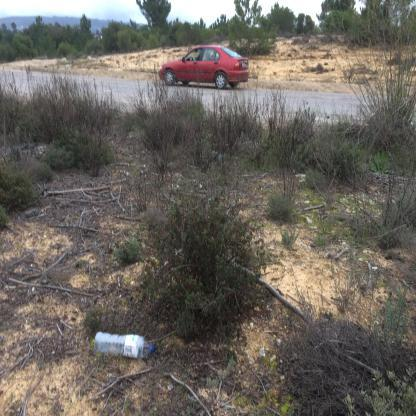plastik: (95, 333, 156, 360)
